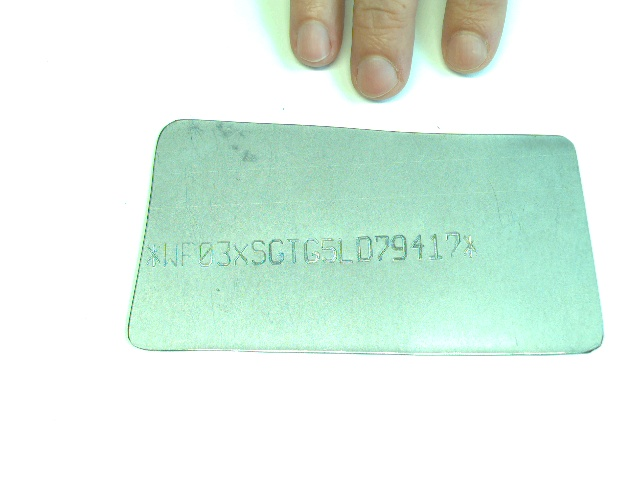0: (197, 240, 214, 268)
1: (427, 232, 444, 262)
3: (215, 239, 233, 268)
4: (409, 234, 426, 262)
5: (321, 237, 338, 266)
7: (444, 231, 463, 261), (373, 234, 390, 264)
9: (390, 234, 409, 262)
d: (356, 235, 374, 265)
f: (180, 241, 194, 266)
g: (302, 236, 321, 266), (268, 238, 286, 266)
l: (337, 236, 354, 264)
s: (251, 239, 269, 266)
t: (286, 235, 302, 266)
w: (162, 242, 179, 268)
x: (233, 241, 249, 268)
